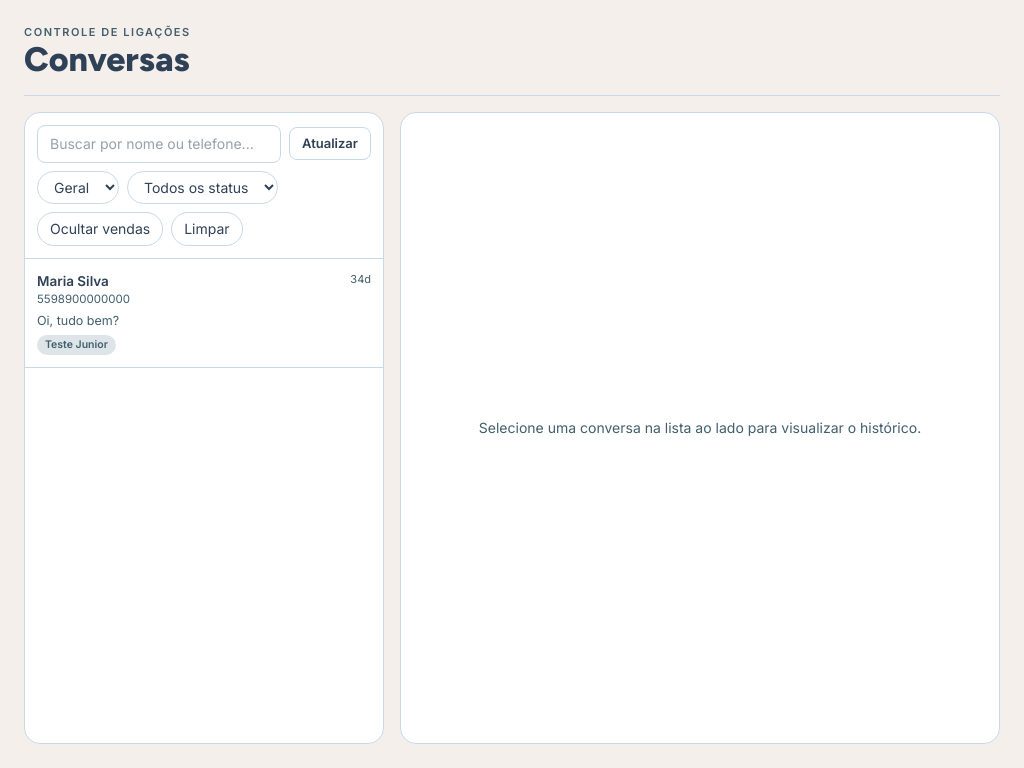
ConversasPage — painel de chat › erro 409 ao enviar mostra a mensagem de número desconectado e preserva o texto digitado
Click the text "Maria Silva": (73, 280) x1=37 y1=272 x2=109 y2=288
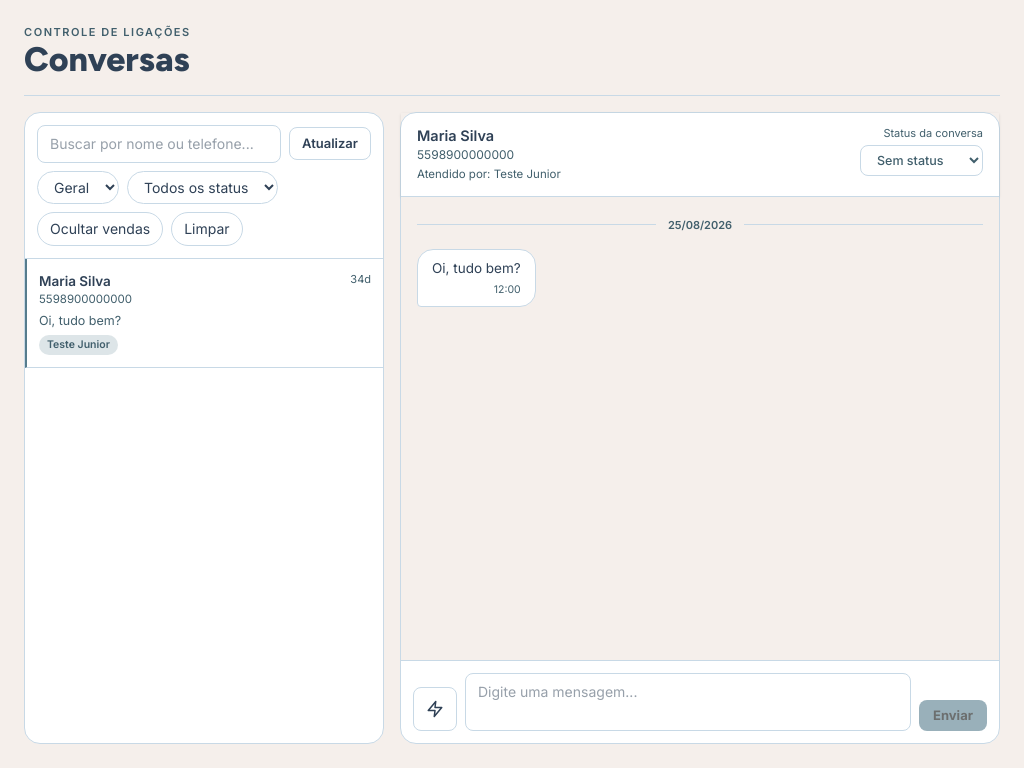
Expected: the 2nd text "Oi, tudo bem?" is shown, x1=39 y1=313 x2=121 y2=328
In the text box named "Mensagem para o contato": (688, 702) x1=465 y1=673 x2=911 y2=731, type "Oi Maria!"
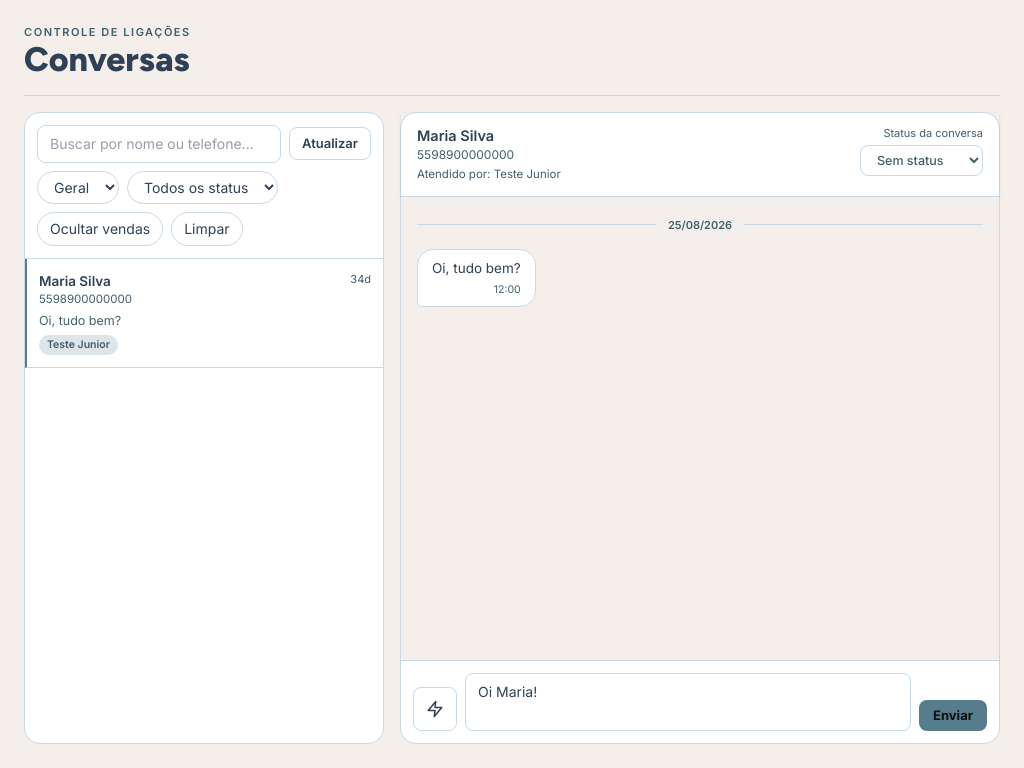
Click the button "Enviar": (953, 715) x1=919 y1=700 x2=987 y2=731
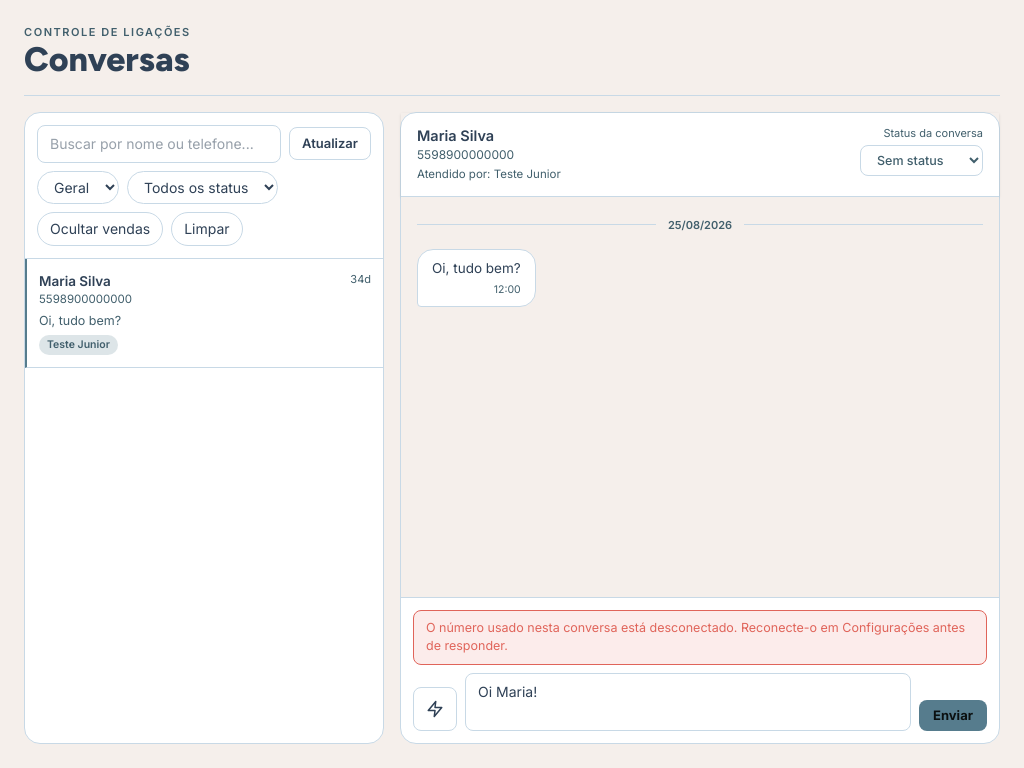
Now the text "O número usado nesta conversa está desconectado. Reconecte-o em Configurações antes de responder." is shown, box x1=426 y1=620 x2=965 y2=653
